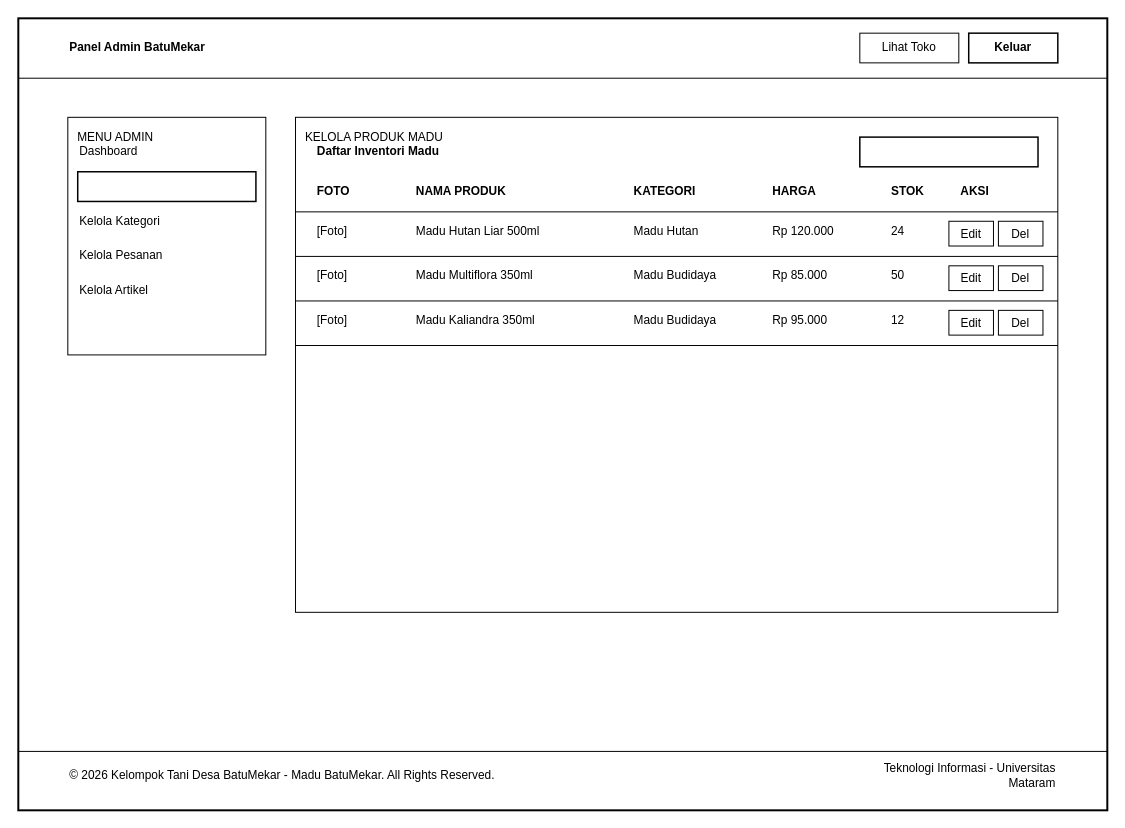
Image size: 1125x828. Some labels were removed from this diagram. Here are the shapes that lost their labels. From the top down, the centre of each, then its label:
At point 948,151: "+ Tambah Produk Baru".
At point 166,186: "Kelola Produk".
